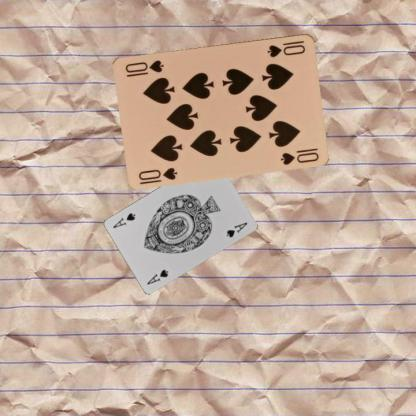10s: (264, 38, 306, 58), (136, 165, 179, 182)
As: (144, 266, 170, 286)
